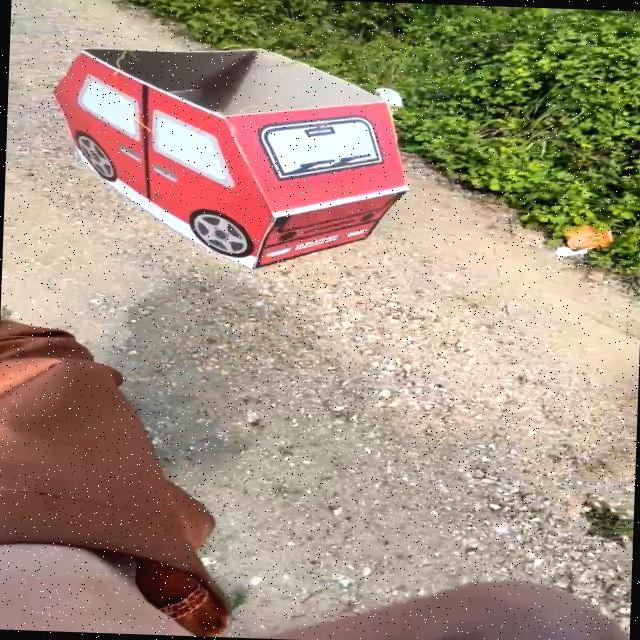red_car: (2, 24, 467, 281)
